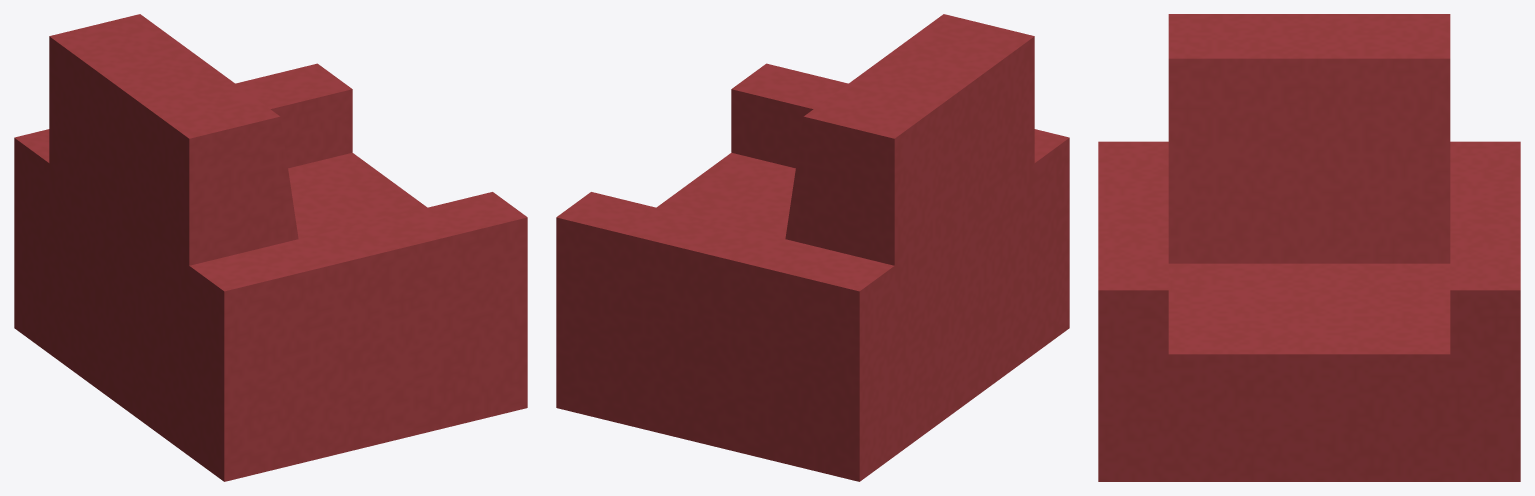
File: chair.obj
3 renders of one model, left to right at view 1: azimuth 30°, elevation 25°; view 2: azimuth 150°, elevation 25°; view 3: azimuth 270°, elevation 25°, orthographic.
Visible parts, largest first — view 1: Cube.001; view 2: Cube.001; view 3: Cube.001.
Boxes of the visible parts, left/top/right/bottom form: Cube.001: left=14, top=14, right=527, bottom=481; Cube.001: left=556, top=14, right=1069, bottom=481; Cube.001: left=1098, top=14, right=1520, bottom=481.
Size of the model in its own units: 1 by 1 by 1.2.
